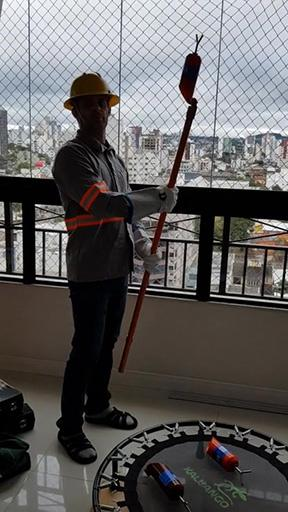Detector_Tensao_Contato: (204, 437, 252, 483), (177, 31, 206, 105), (145, 463, 189, 509)
Vara_Manobra: (115, 103, 195, 373)
